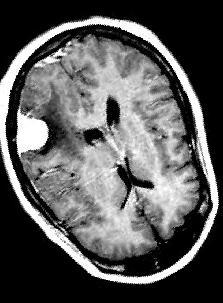Tumor: (13, 100, 52, 157)
